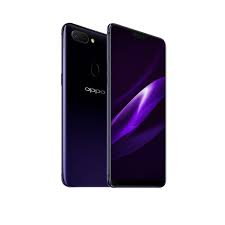oppo: (59, 19, 168, 188)
